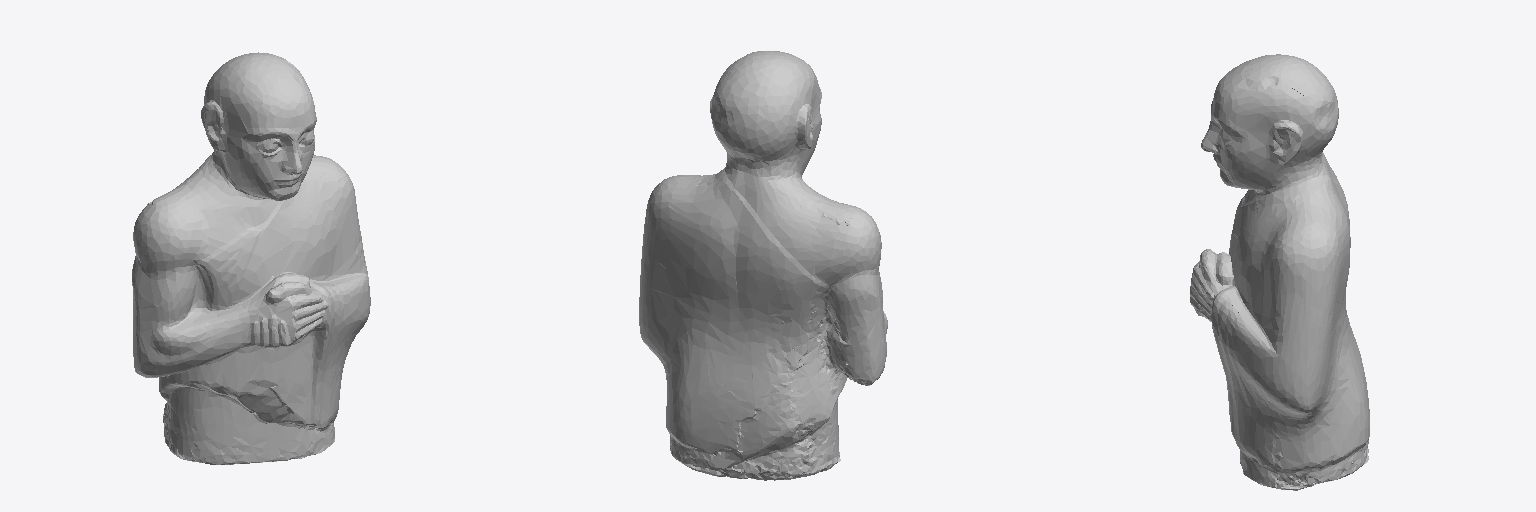
File: 07gudea.obj
3 views of the same model, side by side, from view 1: azimuth 30°, elevation 25°; view 2: azimuth 150°, elevation 25°; view 3: azimuth 270°, elevation 25° (orthographic).
Parts seen in each view (by area): view 1: gudeaTesting; view 2: gudeaTesting; view 3: gudeaTesting.
Part boxes in pixels (bbox=[...]): gudeaTesting: bbox=[132, 52, 370, 464]; gudeaTesting: bbox=[639, 51, 887, 480]; gudeaTesting: bbox=[1190, 54, 1369, 490].
Bounding box in the file's own units: 0.9707 × 1.57 × 0.6505.